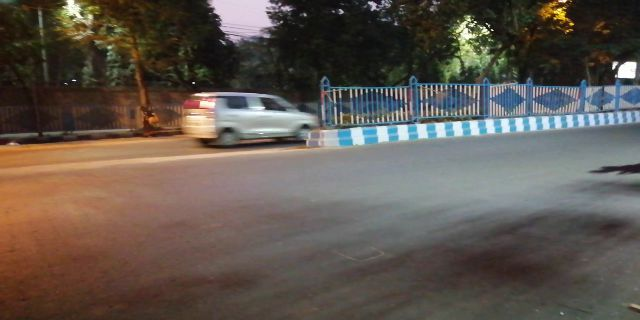Car: (180, 87, 318, 149)
